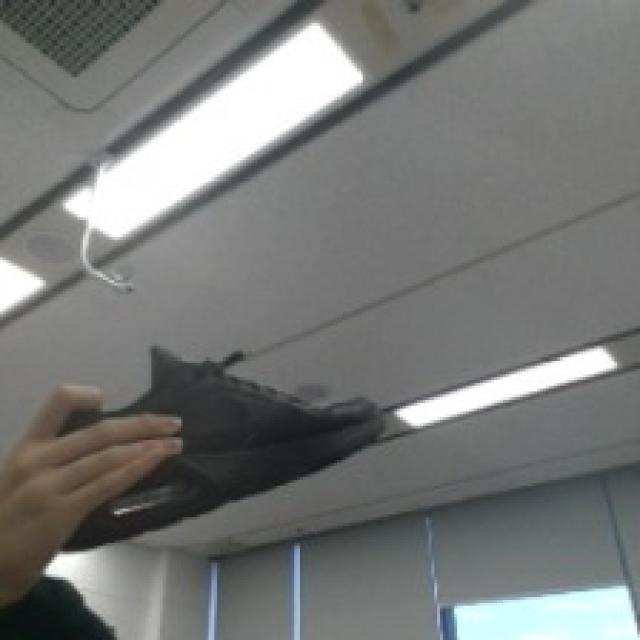shoe: (24, 312, 450, 534)
